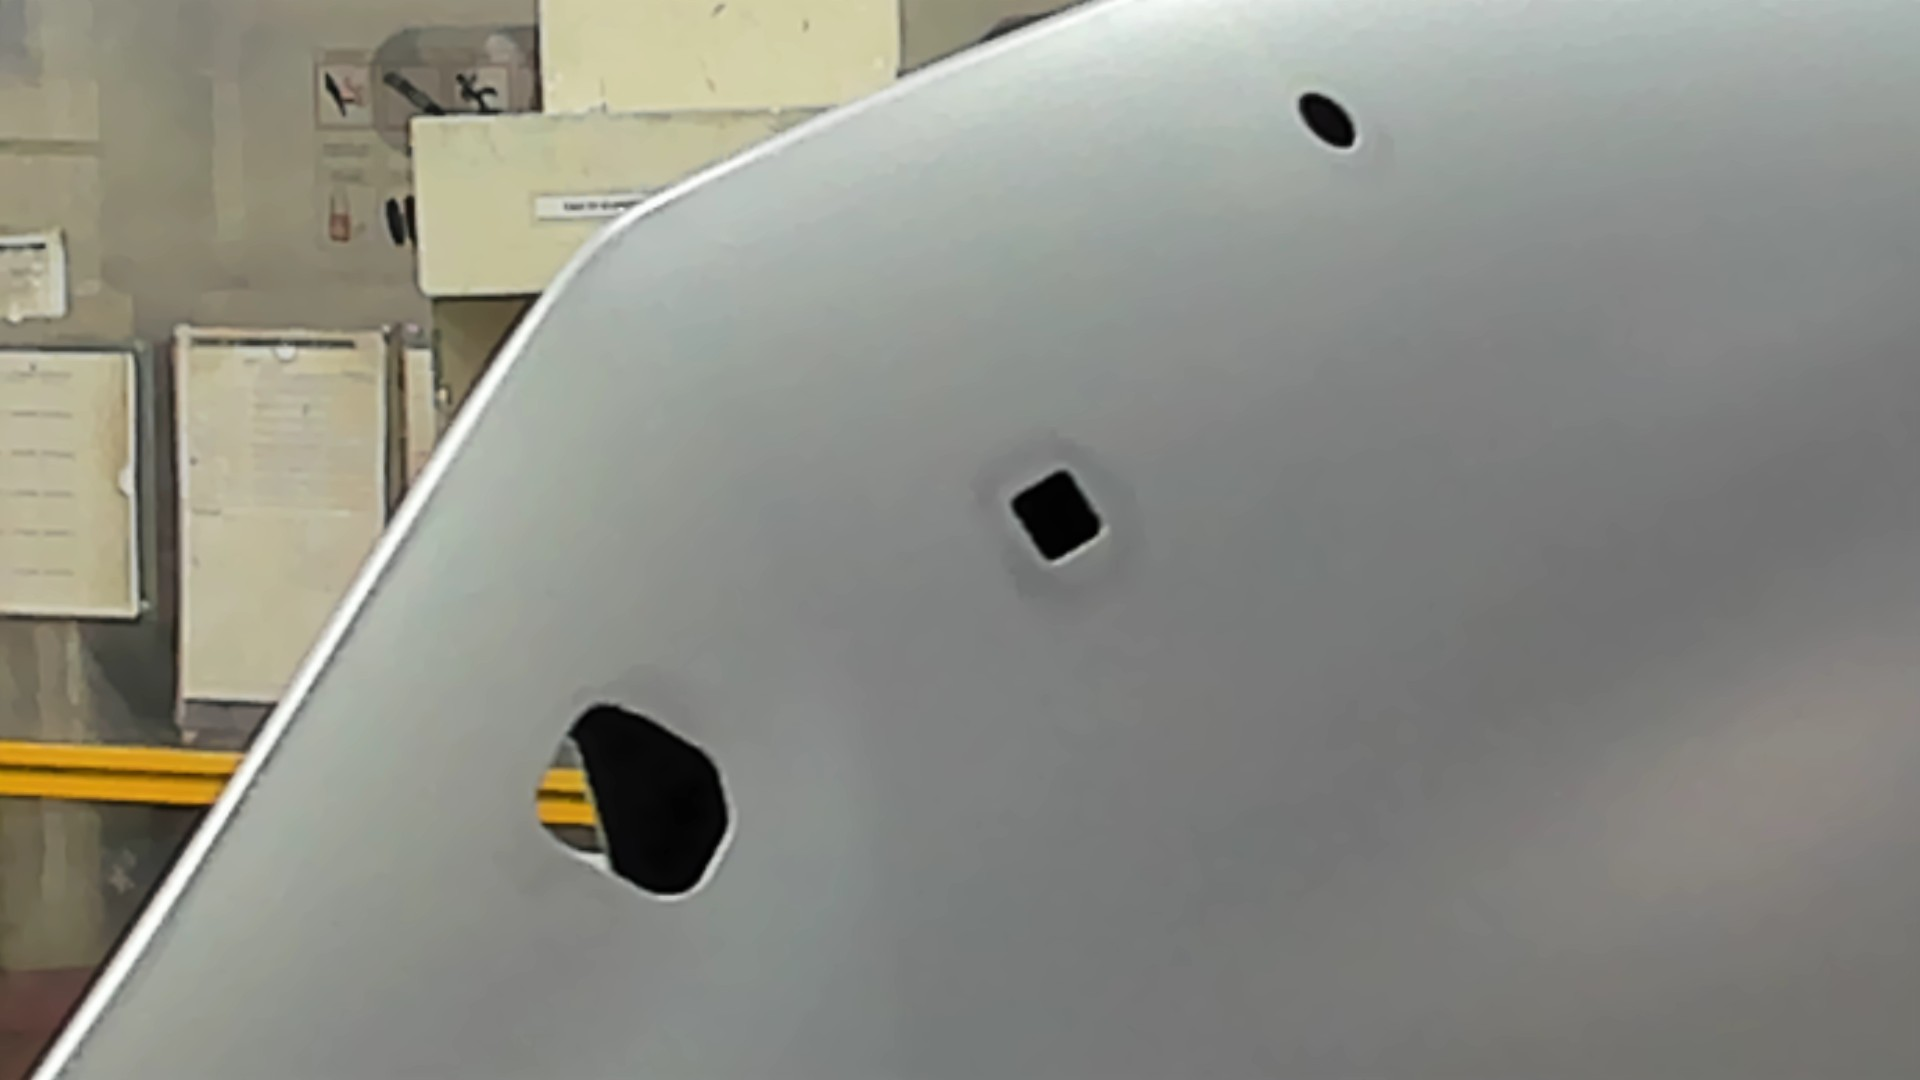chico: (1295, 87, 1357, 152)
grande: (527, 698, 738, 909)
mediano: (1000, 464, 1105, 570)
